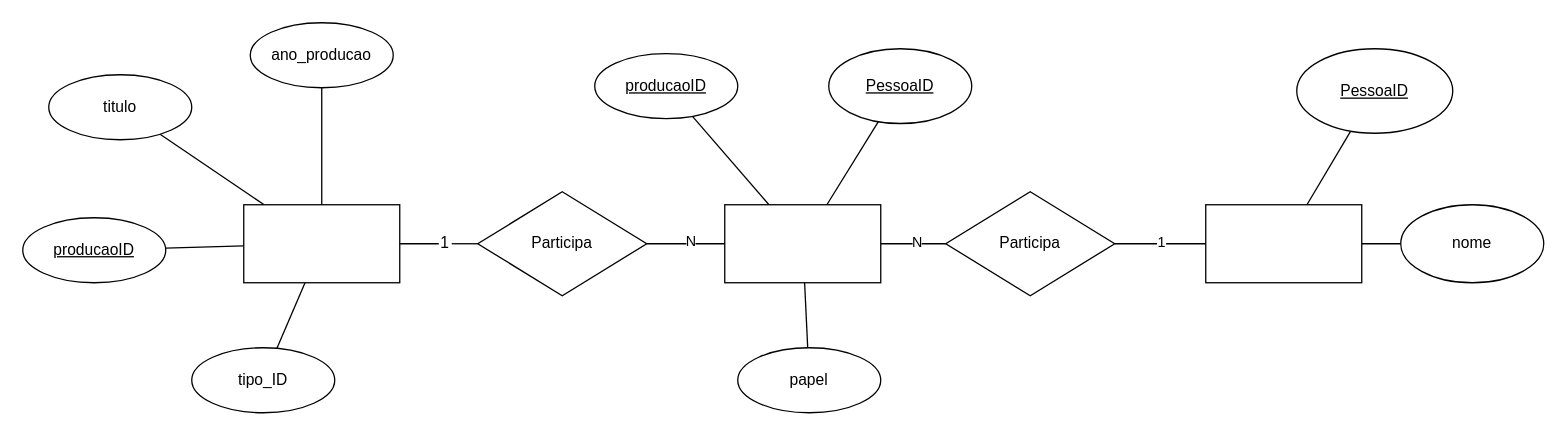
The diagram is 1567 pixels wide and 435 high, and some of its shapes have lost their labels. The shapes that lost their labels are listed below. From the top down, each one's centre as x and y in pixels, then its label:
At (321,243): "Producao".
At (802,243): "Equipe".
At (1283,243): "Pessoa".
